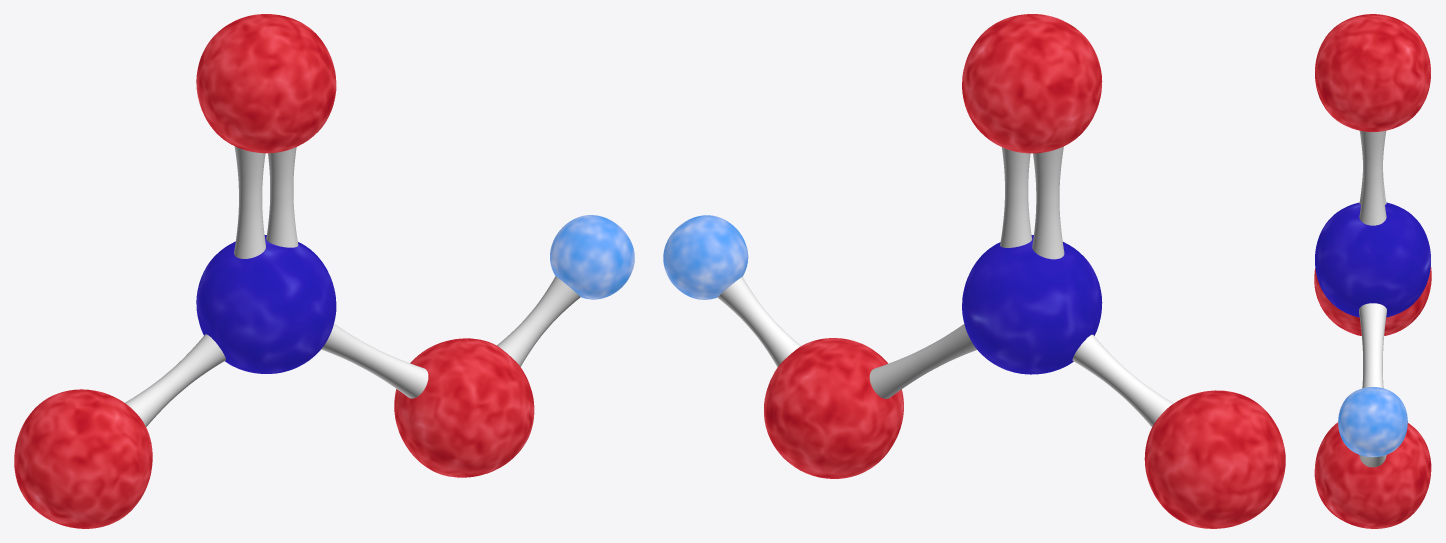
Rendered from HNO3.glb.
3 renders of one model, left to right at view 1: azimuth 30°, elevation 25°; view 2: azimuth 150°, elevation 25°; view 3: azimuth 270°, elevation 25°, orthographic. The views are drawn at different scales.
Parts seen in each view (by area): view 1: jednosytne_kyseliny.006; view 2: jednosytne_kyseliny.006; view 3: jednosytne_kyseliny.006.
Boxes of the visible parts, x1,y1,x2,y2 form: jednosytne_kyseliny.006: [14, 14, 634, 528]; jednosytne_kyseliny.006: [663, 14, 1285, 528]; jednosytne_kyseliny.006: [1314, 14, 1431, 528].
Bounding box in the file's own units: 5.85 × 4.59 × 1.16.
4 materials, 3 textured.
